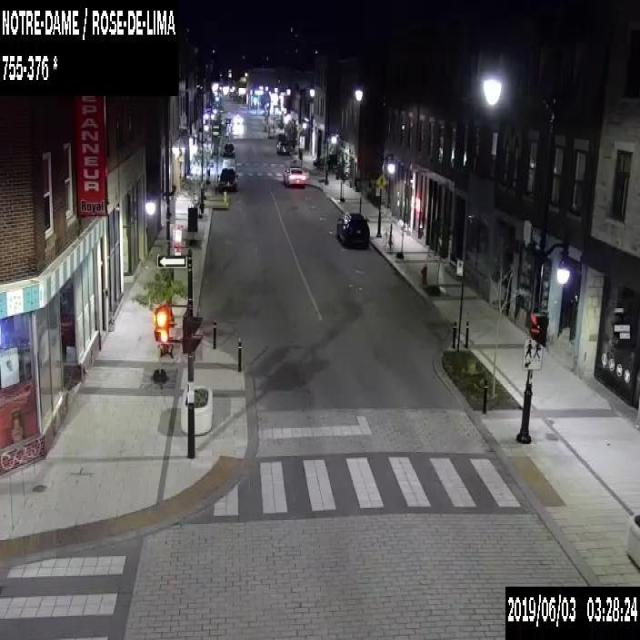vehicle: (336, 212, 369, 248), (216, 167, 238, 190), (282, 165, 304, 185), (222, 142, 235, 157), (277, 142, 290, 155), (276, 141, 281, 152)
